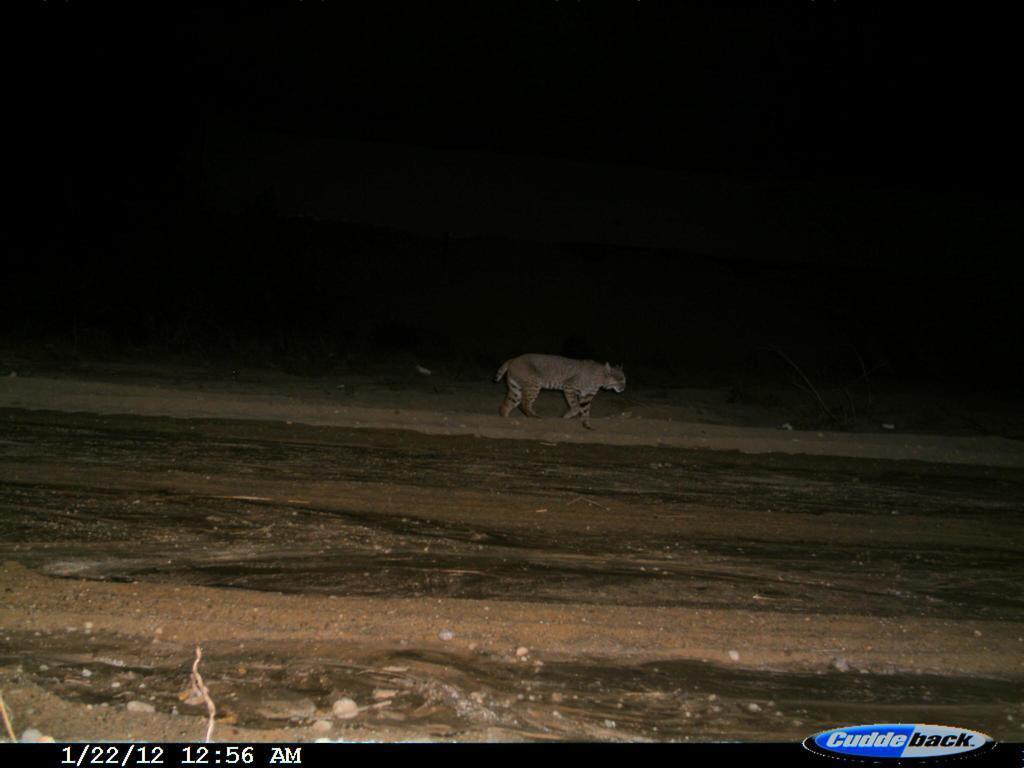bobcat: (497, 333, 628, 437)
